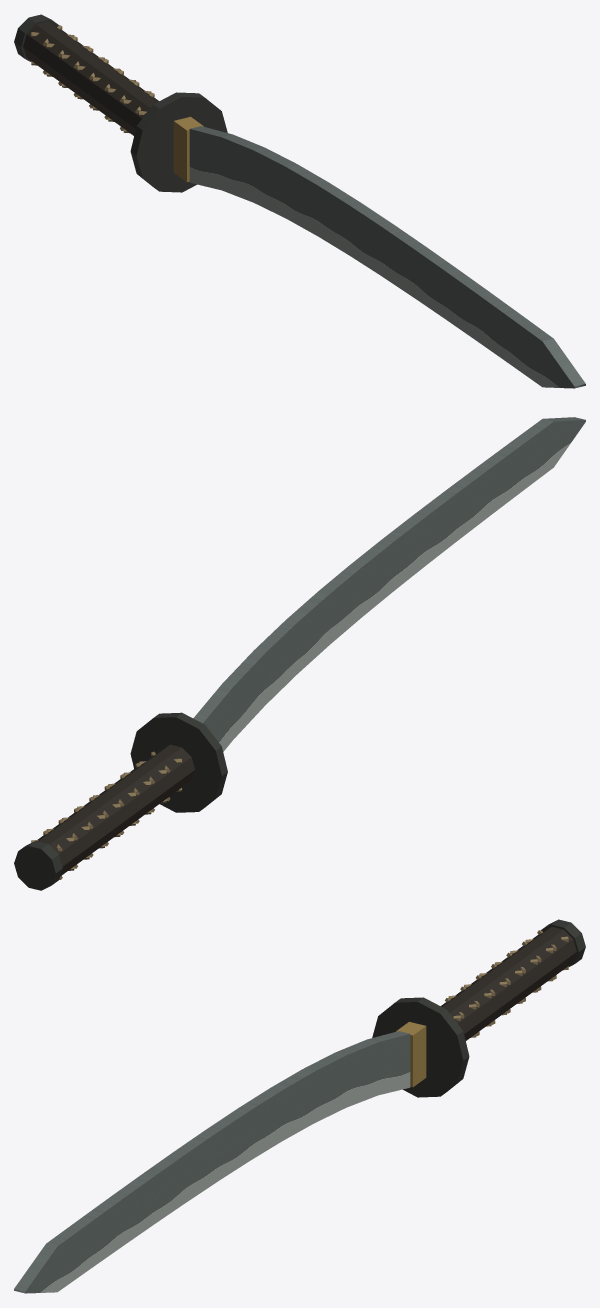
File: katana_curved.glb
3 renders of one model, top to bottom at view 1: azimuth 30°, elevation 25°; view 2: azimuth 150°, elevation 25°; view 3: azimuth 330°, elevation 25°, orthographic.
Size of the model in its own units: 0.096 by 0.1208 by 0.992.
Materials: 3 (3 with a texture image).
